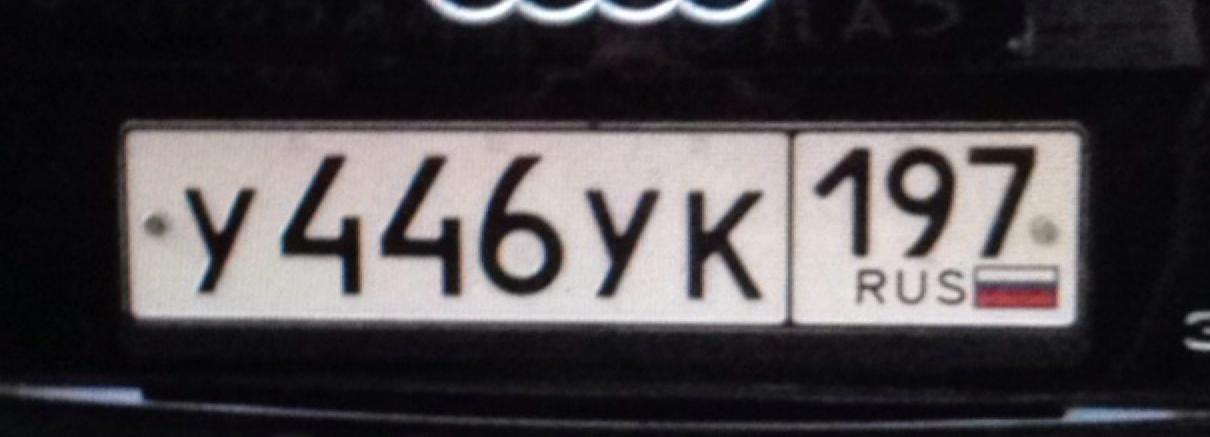license-plateSW: (114, 123, 1090, 327)
